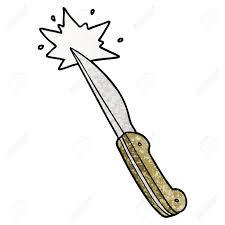Knife: (69, 46, 187, 217)
